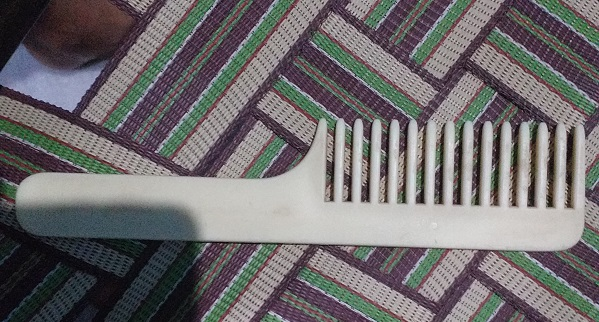comb: (2, 75, 591, 270)
